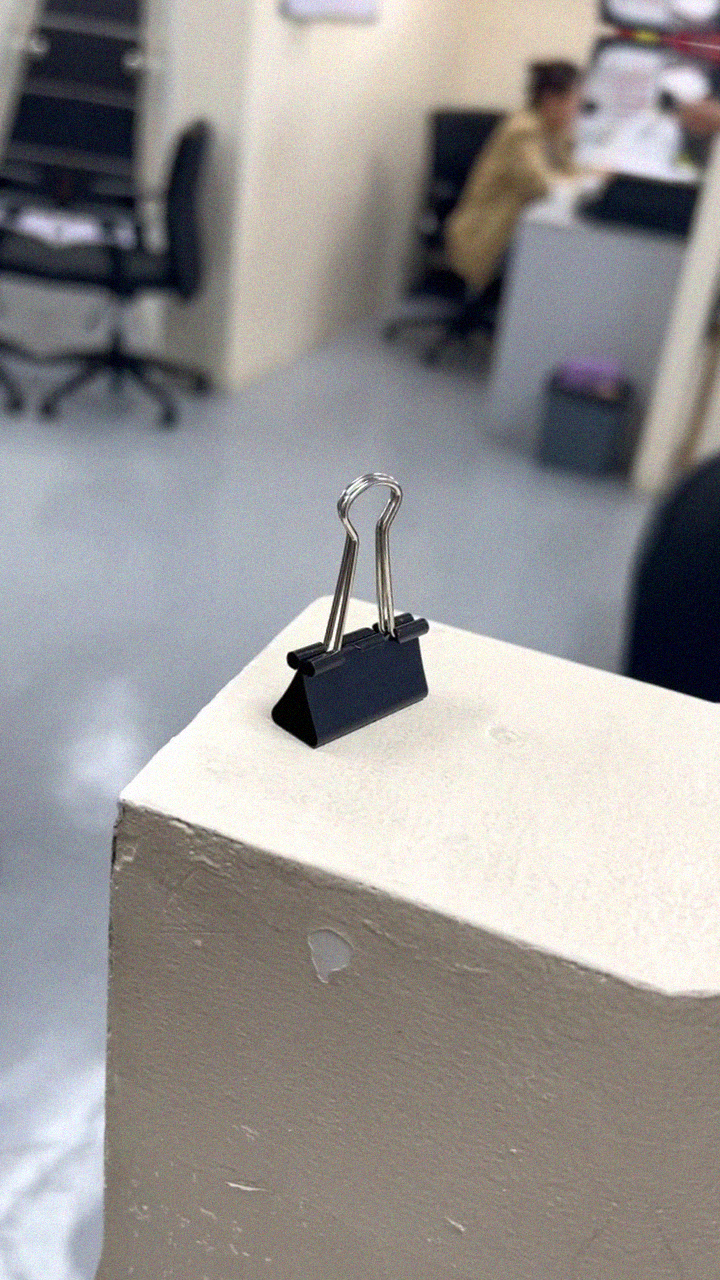kep_giay: (258, 459, 471, 770)
